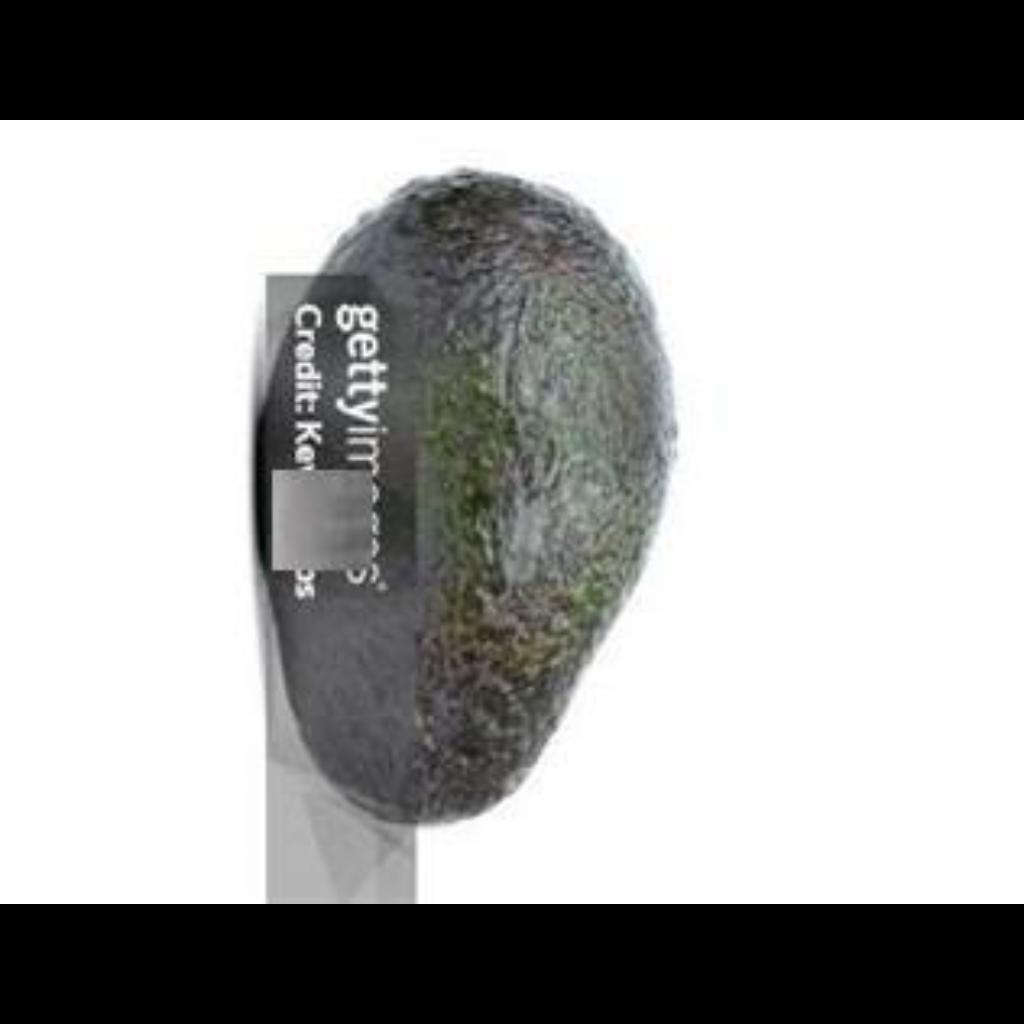antracnosis_fruto: (299, 188, 626, 762)
